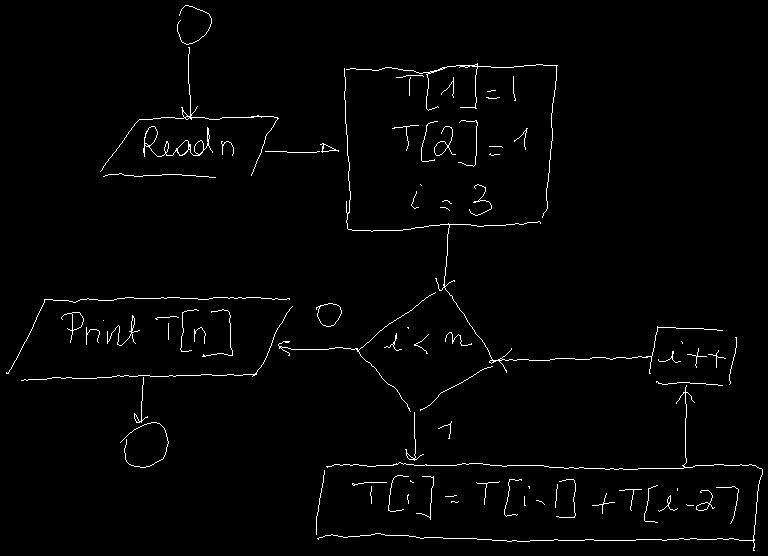arrow: (489, 348, 650, 372), (676, 385, 694, 466), (435, 223, 454, 290), (181, 47, 197, 119), (278, 341, 357, 355), (405, 412, 423, 460), (265, 143, 338, 152), (134, 377, 147, 422)
connection: (120, 422, 168, 467), (177, 5, 211, 44)
data: (6, 297, 292, 380), (100, 115, 278, 177)
decision: (356, 286, 493, 411)
process: (316, 462, 762, 550), (344, 64, 557, 231), (649, 326, 736, 385)
text: (392, 63, 527, 215), (352, 475, 738, 523), (61, 309, 232, 356), (143, 126, 233, 156), (384, 327, 471, 353), (658, 341, 725, 367), (316, 303, 341, 326), (438, 421, 451, 438)
